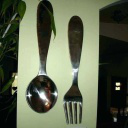fork: (59, 11, 86, 128)
